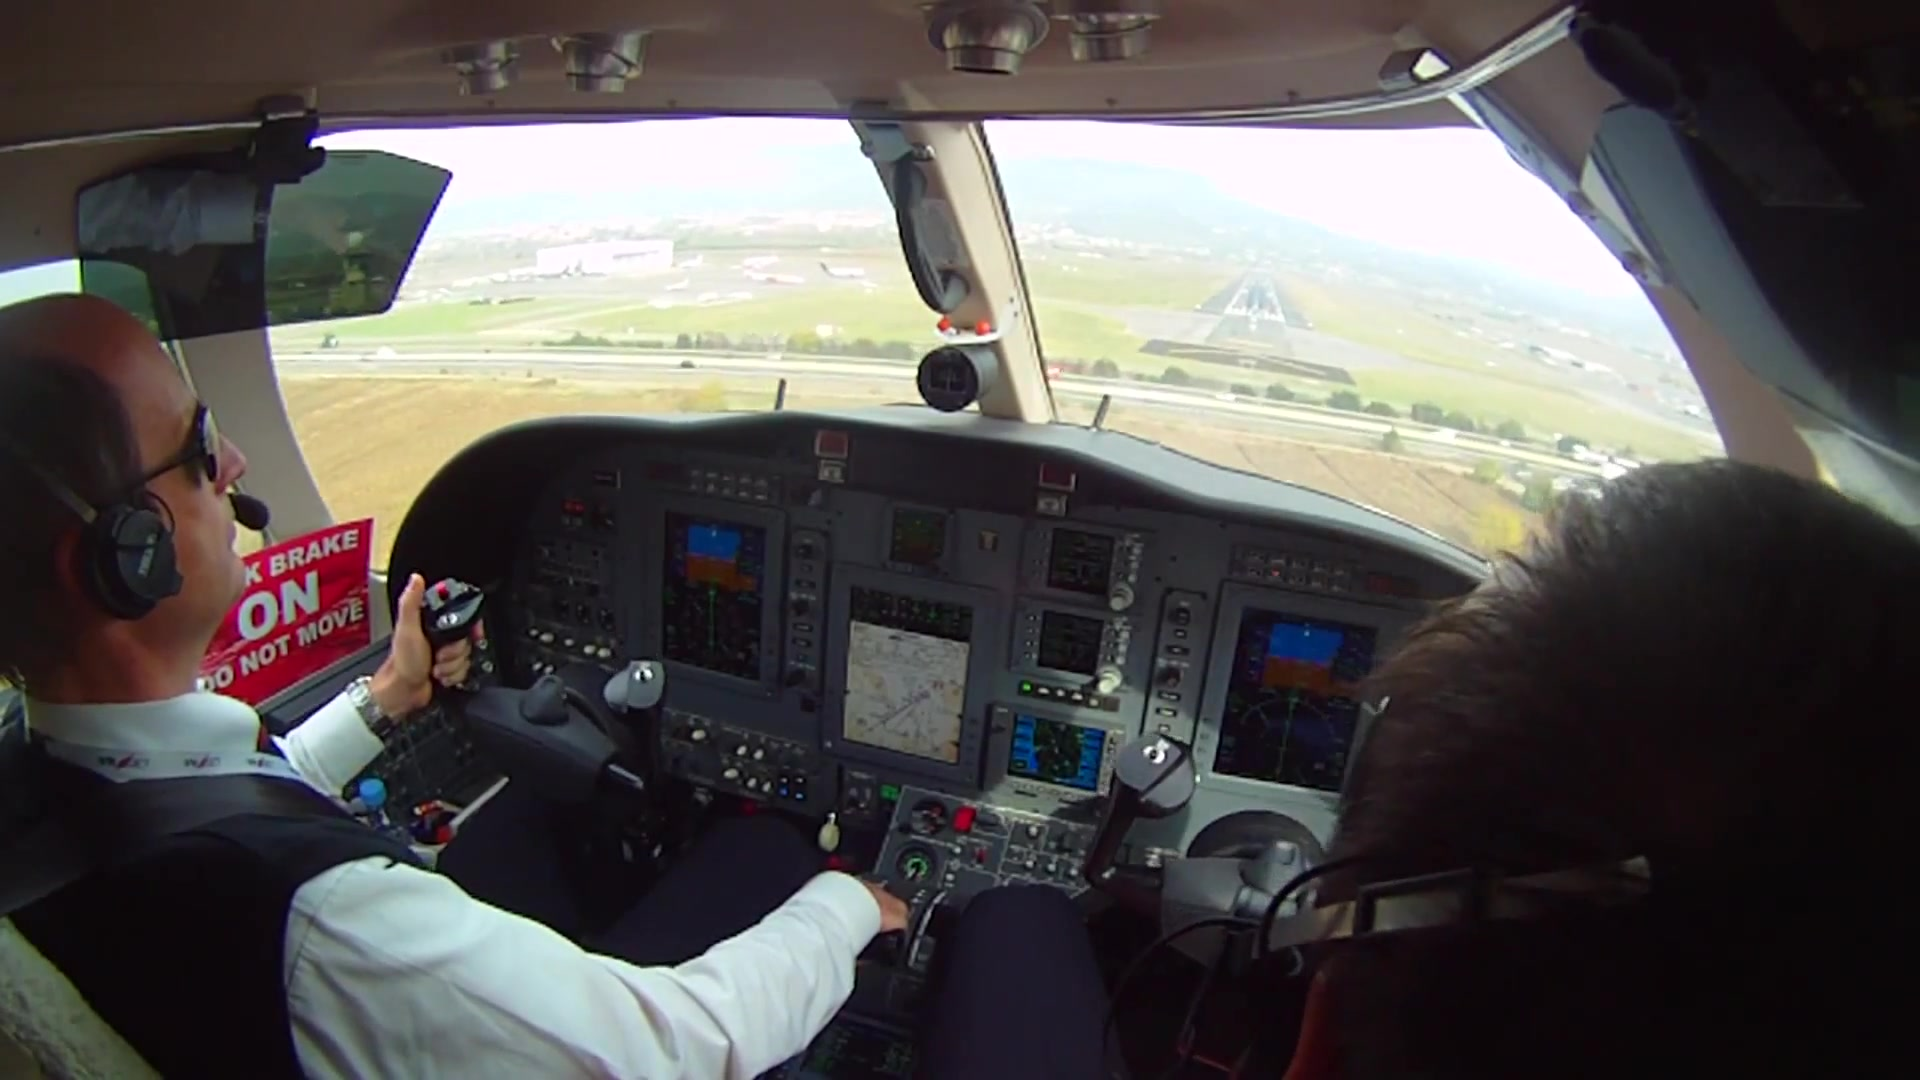entrance: (1225, 305, 1283, 320)
runway: (1226, 260, 1286, 324)
